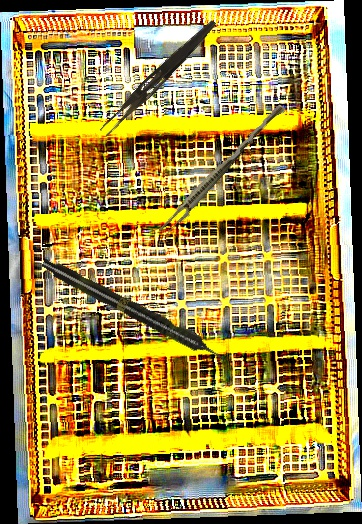Dressing Forceps: (98, 14, 219, 141)
Handpiece: (38, 254, 230, 368)
Tissue Forceps: (157, 98, 287, 240)
